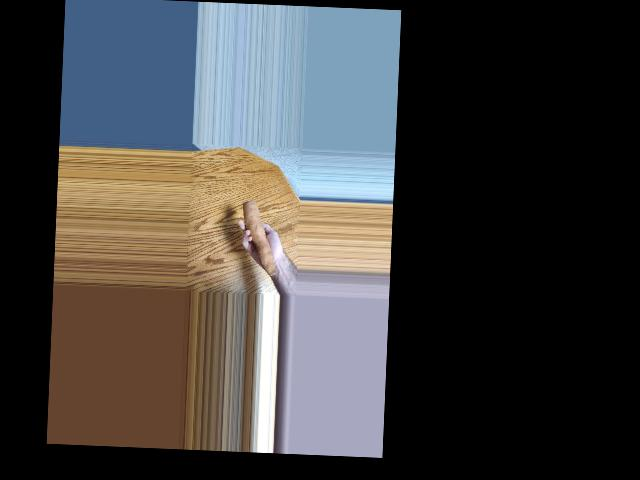sweet_potato: (245, 203, 280, 276)
